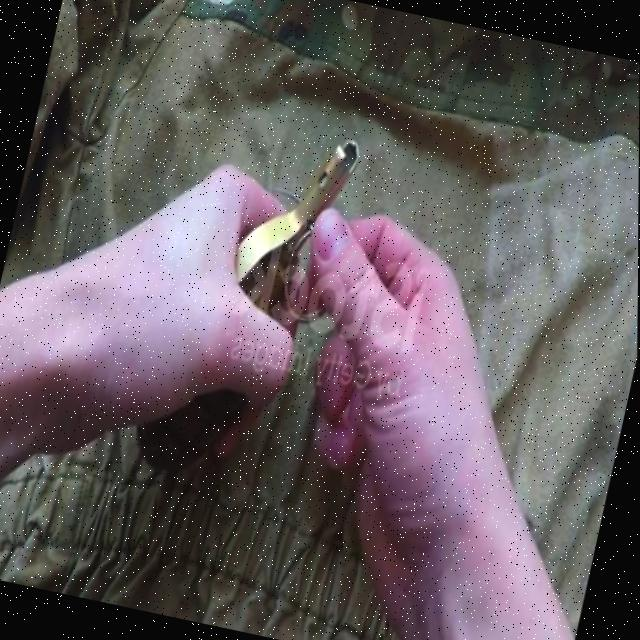grenade: (125, 96, 358, 491)
